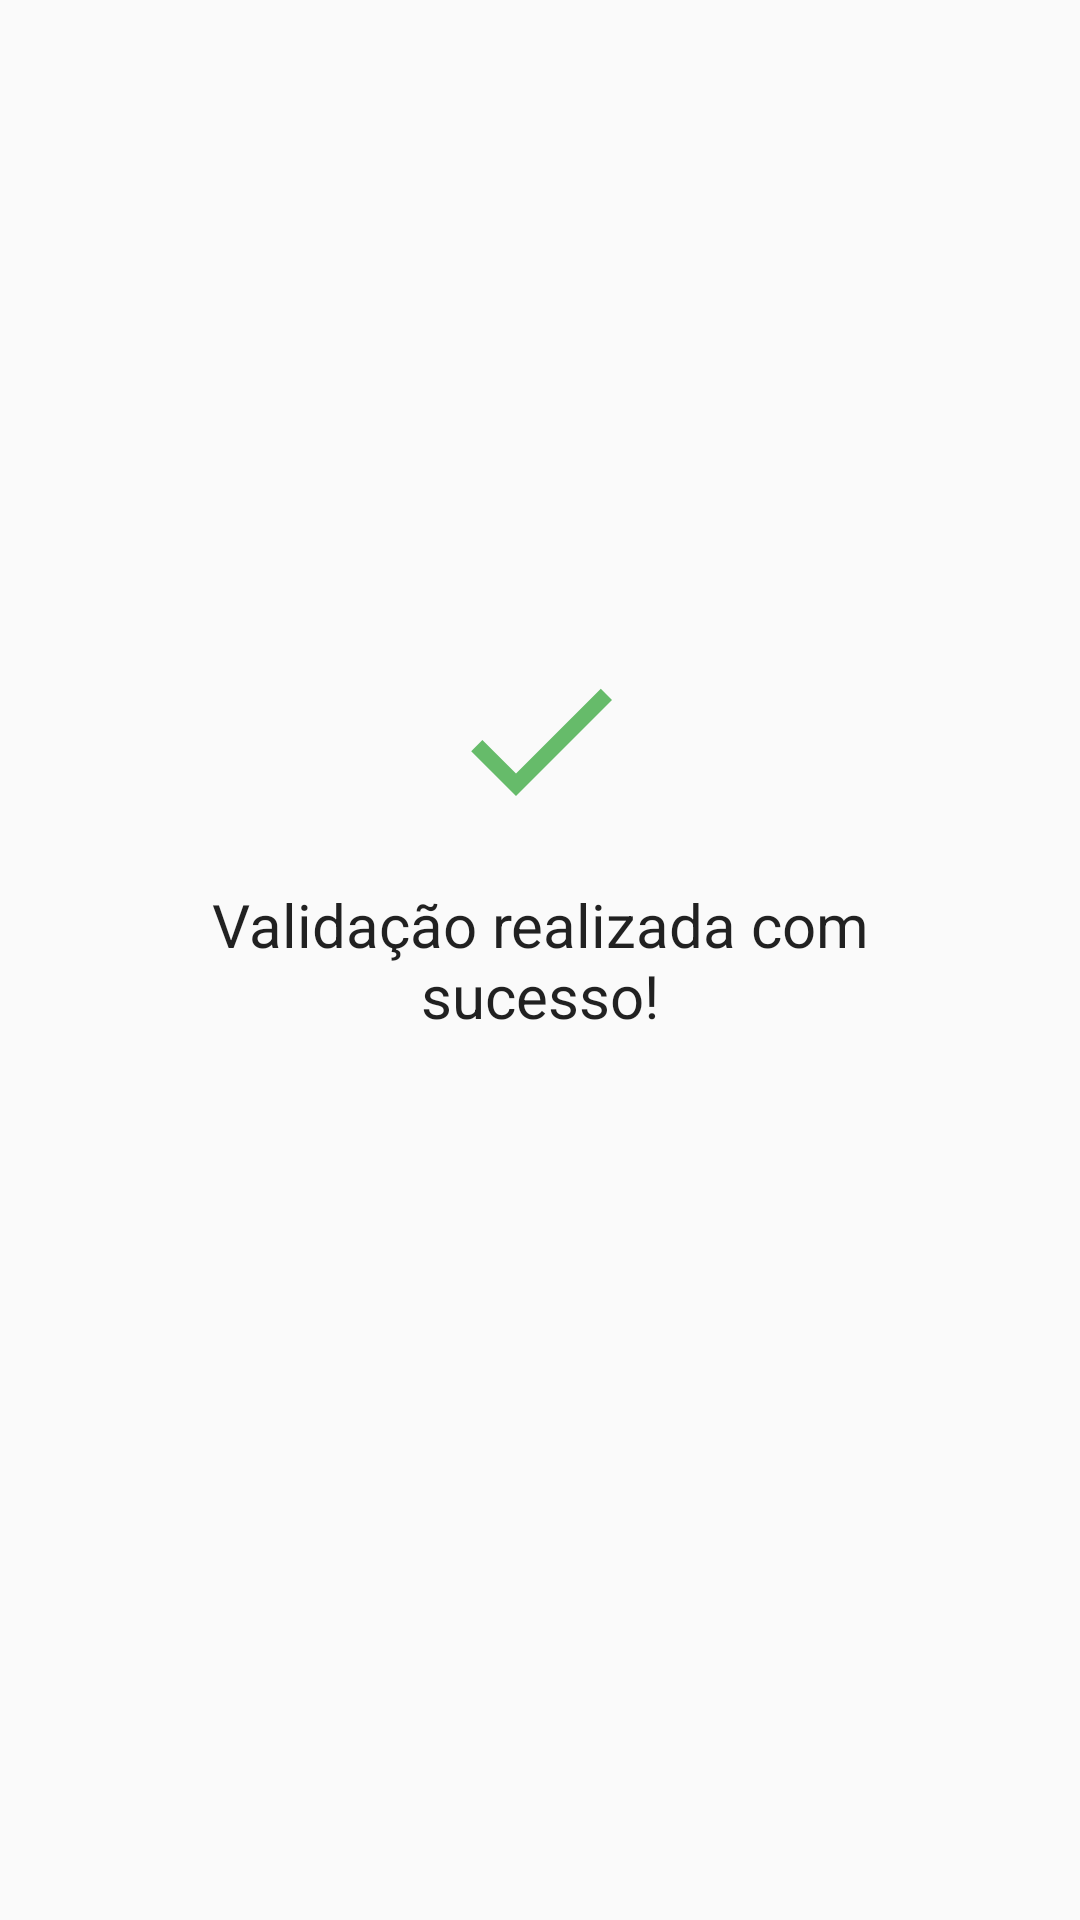

Point at icon controls on the screen. Image size 1080x1920, points as [x,y].
done: [541,742]
